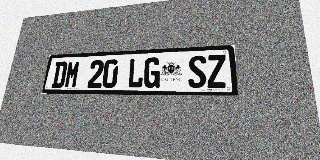0: (102, 59, 119, 88)
2: (87, 60, 105, 88)
D: (51, 61, 68, 88)
G: (143, 57, 161, 88)
L: (127, 58, 144, 88)
M: (64, 61, 81, 88)
S: (188, 55, 207, 88)
Z: (207, 54, 227, 88)
